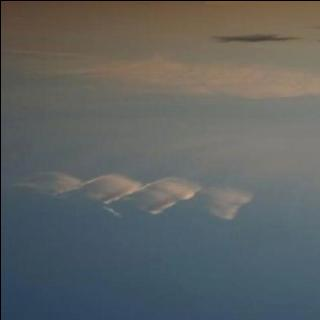Cirrocumulus: (0, 146, 255, 234)
